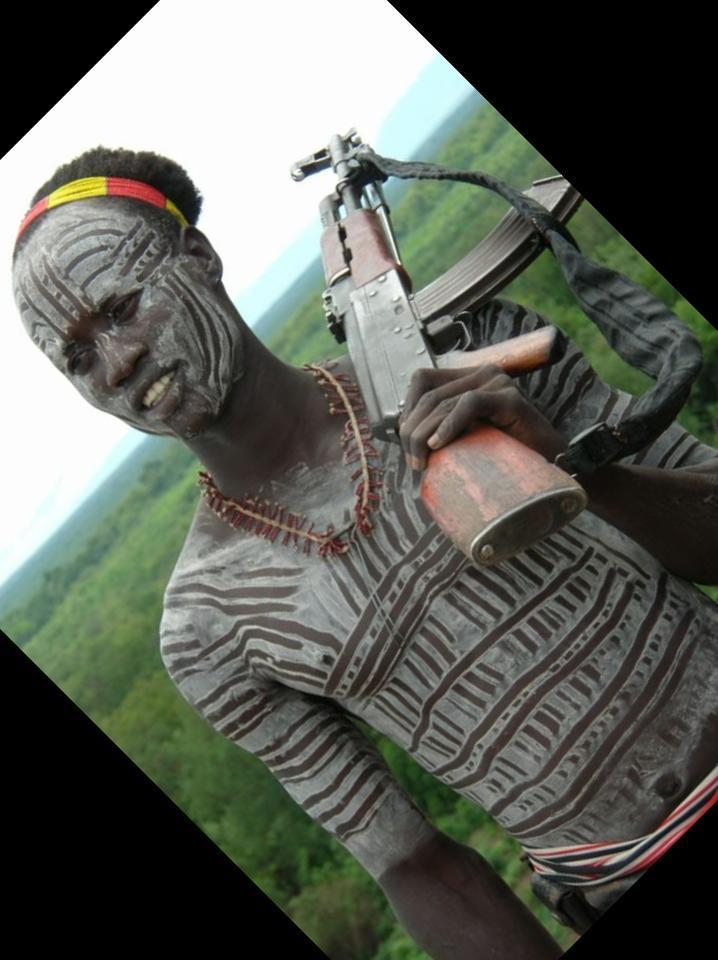gun: (341, 290, 584, 324), (200, 301, 386, 332), (400, 152, 437, 195), (244, 124, 278, 164), (567, 94, 612, 118), (62, 93, 91, 118)
person: (0, 62, 128, 440), (169, 90, 265, 440), (464, 66, 593, 298), (337, 119, 428, 325)
